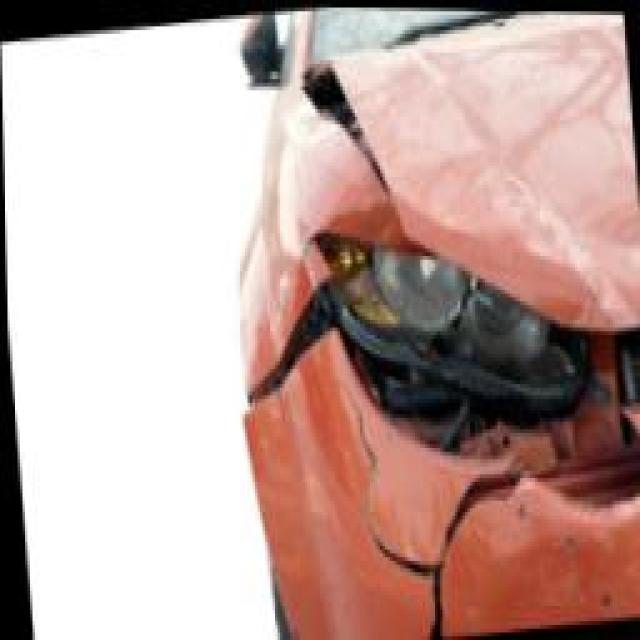Bonnet: (358, 34, 640, 331)
Bumper: (248, 309, 639, 640)
Light: (338, 237, 538, 414)
